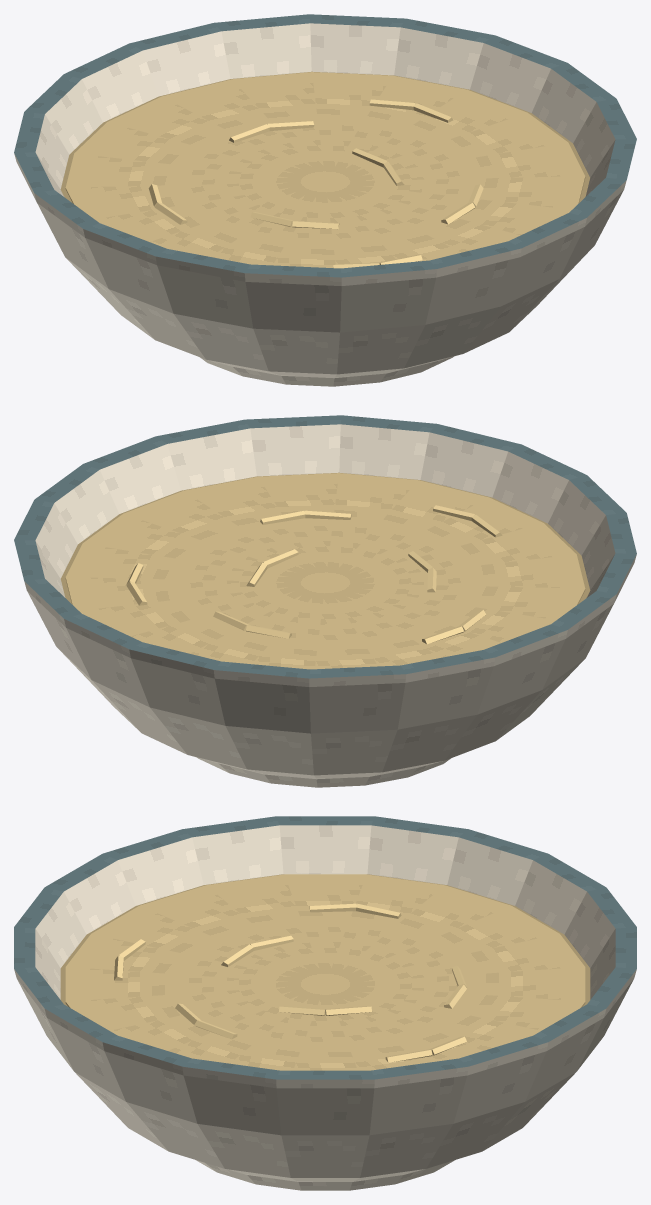
The model's file is broth_bone.glb.
3 views of the same model, one above another, from view 1: azimuth 30°, elevation 25°; view 2: azimuth 150°, elevation 25°; view 3: azimuth 270°, elevation 25° (orthographic).
Visible parts, largest first — view 1: block_deep open soup bowl, block_soup surface, block_shaded liquid meniscus; view 2: block_deep open soup bowl, block_soup surface, block_shaded liquid meniscus; view 3: block_deep open soup bowl, block_soup surface, block_shaded liquid meniscus.
Boxes of the visible parts, x1,y1,x2,y2 form: block_deep open soup bowl: (14, 14, 636, 386); block_soup surface: (65, 72, 585, 267); block_shaded liquid meniscus: (60, 71, 589, 202); block_deep open soup bowl: (14, 415, 636, 787); block_soup surface: (65, 473, 585, 669); block_shaded liquid meniscus: (61, 472, 590, 603); block_deep open soup bowl: (14, 816, 636, 1190); block_soup surface: (65, 874, 585, 1070); block_shaded liquid meniscus: (60, 874, 590, 1006).
Bounding box in the file's own units: 0.114 × 0.0361 × 0.114.
Materials: 1 (1 with a texture image).
